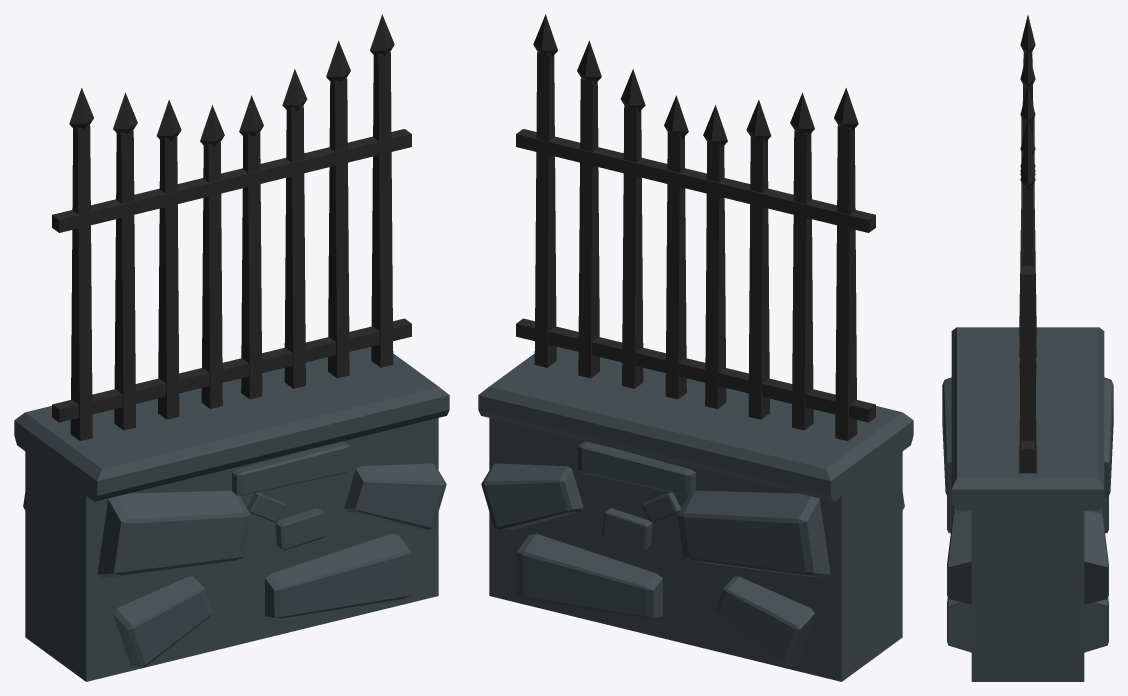
Rendered from fence.fbx.
3 renders of one model, left to right at view 1: azimuth 30°, elevation 25°; view 2: azimuth 150°, elevation 25°; view 3: azimuth 270°, elevation 25°, orthographic. The views are drawn at different scales.
Visible parts, largest first — view 1: fence; view 2: fence; view 3: fence.
Boxes of the visible parts, bbox=[...] form: fence: bbox=[14, 14, 449, 681]; fence: bbox=[478, 14, 913, 681]; fence: bbox=[942, 15, 1113, 681].
Size of the model in its own units: 1.24 by 1.89 by 0.564.
